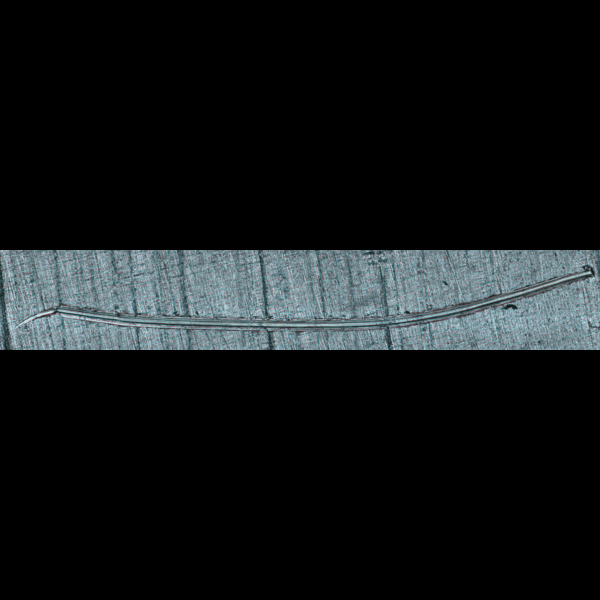d: (11, 260, 596, 335)
